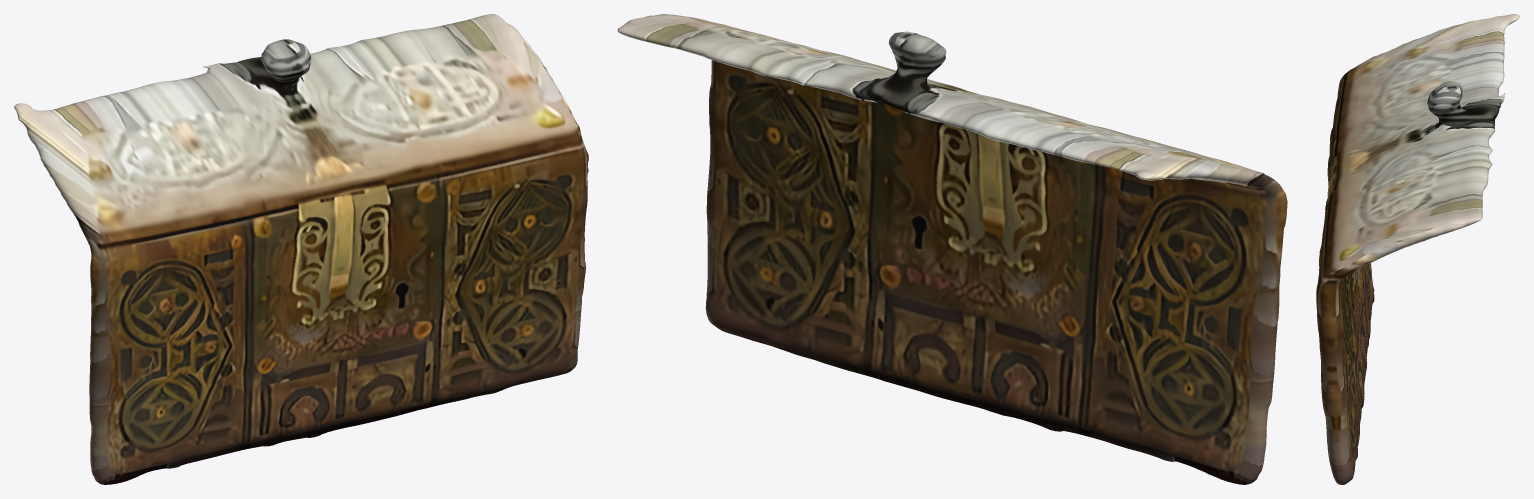
File: kfl-2305.glb
3 renders of one model, left to right at view 1: azimuth 30°, elevation 25°; view 2: azimuth 150°, elevation 25°; view 3: azimuth 270°, elevation 25°, orthographic. The views are drawn at different scales.
Visible parts, largest first — view 1: kfl-2305; view 2: kfl-2305; view 3: kfl-2305.
Part boxes in pixels (x1,y1,x2,y2): kfl-2305: [14, 14, 588, 484]; kfl-2305: [617, 14, 1287, 484]; kfl-2305: [1316, 14, 1519, 484].
Size of the model in its own units: 0.9845 by 0.6816 by 0.3998.
1 material, 1 textured.
